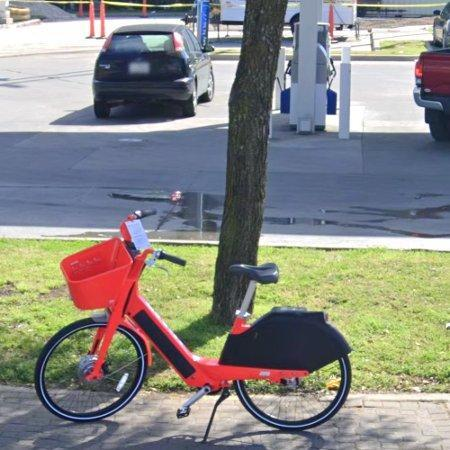bicycles: (35, 212, 352, 431)
